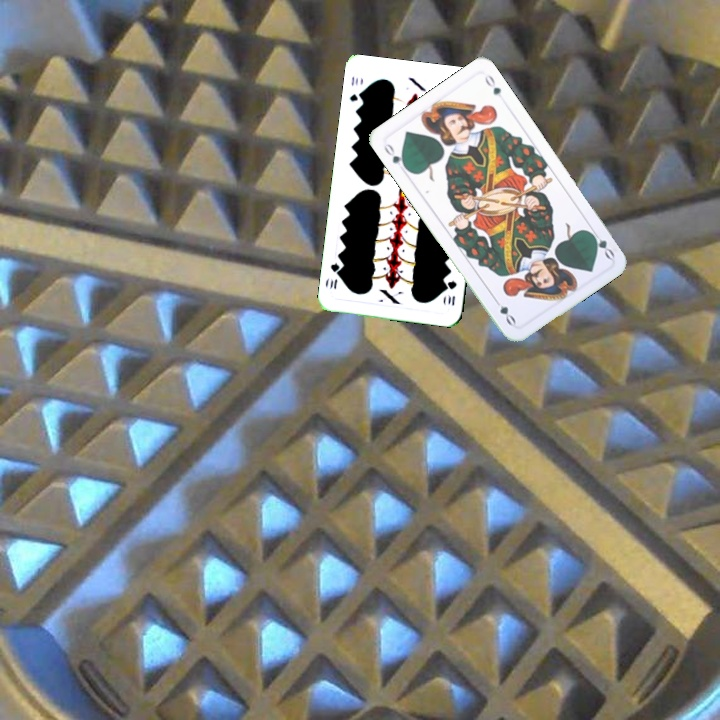G10: (345, 72, 365, 104), (443, 277, 459, 308)
GO: (585, 225, 617, 262), (380, 138, 410, 173)
